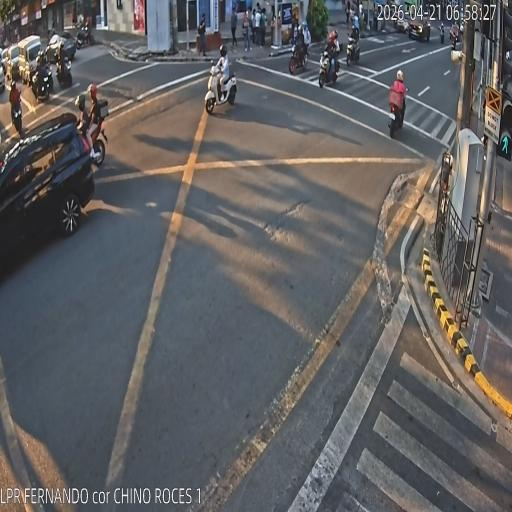Car: (0, 115, 99, 278), (17, 35, 44, 85), (46, 32, 76, 65), (407, 13, 431, 43), (3, 44, 21, 83), (0, 46, 10, 72), (449, 22, 461, 40), (0, 61, 6, 93), (460, 19, 465, 36)
Motor: (204, 58, 237, 114), (388, 84, 407, 137), (30, 58, 53, 100), (288, 35, 309, 74), (319, 47, 338, 88), (56, 51, 73, 88), (10, 98, 24, 137), (346, 33, 360, 65), (76, 24, 93, 49), (450, 31, 459, 51), (438, 23, 444, 44)
